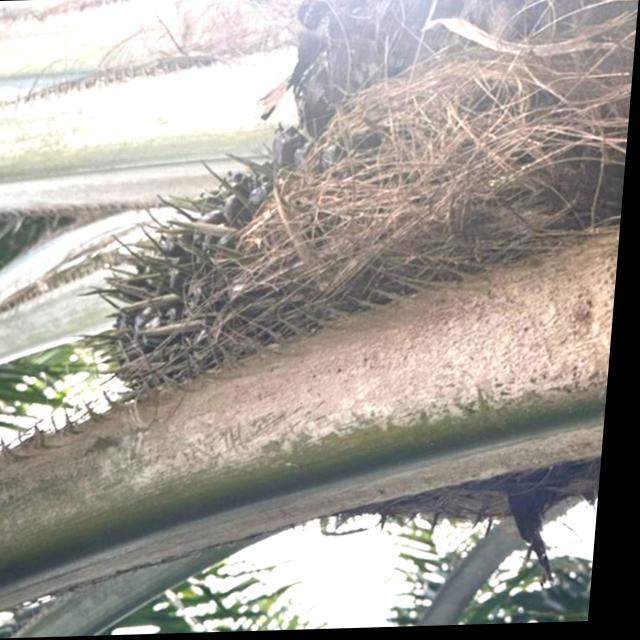almost: (64, 67, 576, 407)
